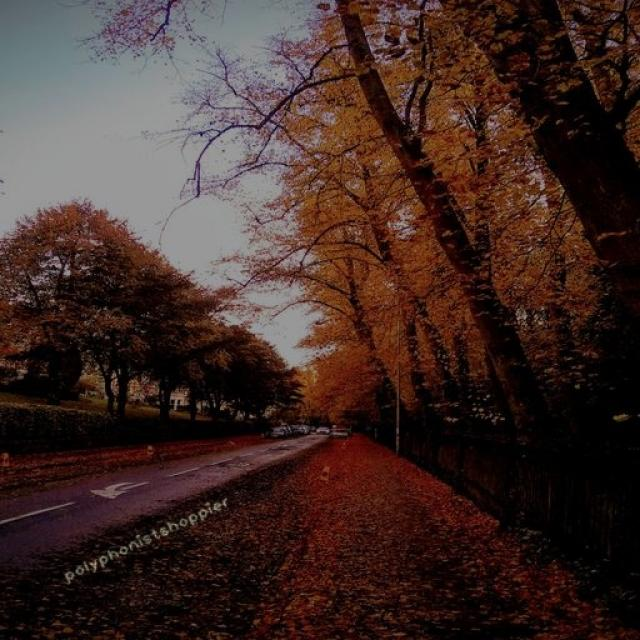watermark: (62, 491, 232, 583)
